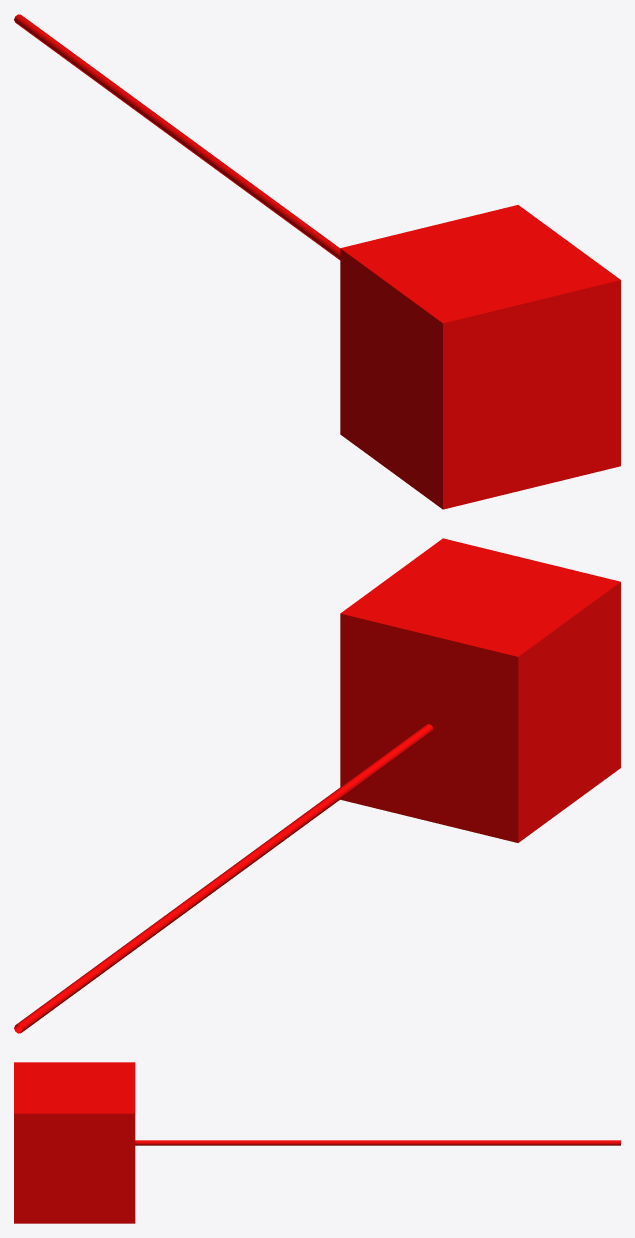
Rendered from Axis_Scale.FBX.
3 renders of one model, top to bottom at view 1: azimuth 30°, elevation 25°; view 2: azimuth 150°, elevation 25°; view 3: azimuth 270°, elevation 25°, orthographic. The views are drawn at different scales.
Visible parts, largest first — view 1: Scale; view 2: Scale; view 3: Scale.
Part boxes in pixels (x1=…): Scale: x1=14, y1=14, x2=620, y2=509; Scale: x1=14, y1=538, x2=620, y2=1033; Scale: x1=14, y1=1062, x2=620, y2=1223.
Size of the model in its own units: 25 by 25 by 125.
